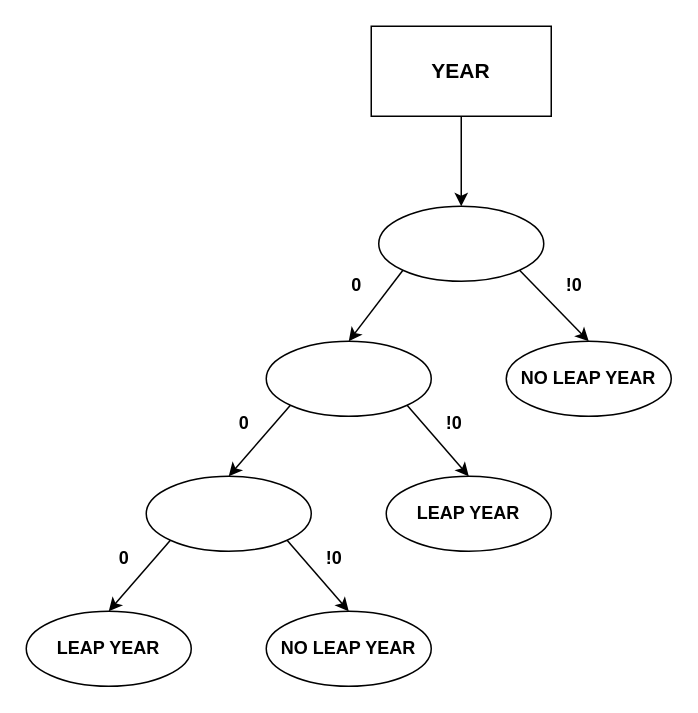
The diagram is 698 pixels wide and 713 high, and some of its shapes have lost their labels. Each missing label, with the centre of its shape:
"YEAR % 100" belongs at point (348, 378).
"YEAR % 4" belongs at point (460, 243).
"YEAR % 400" belongs at point (228, 513).
